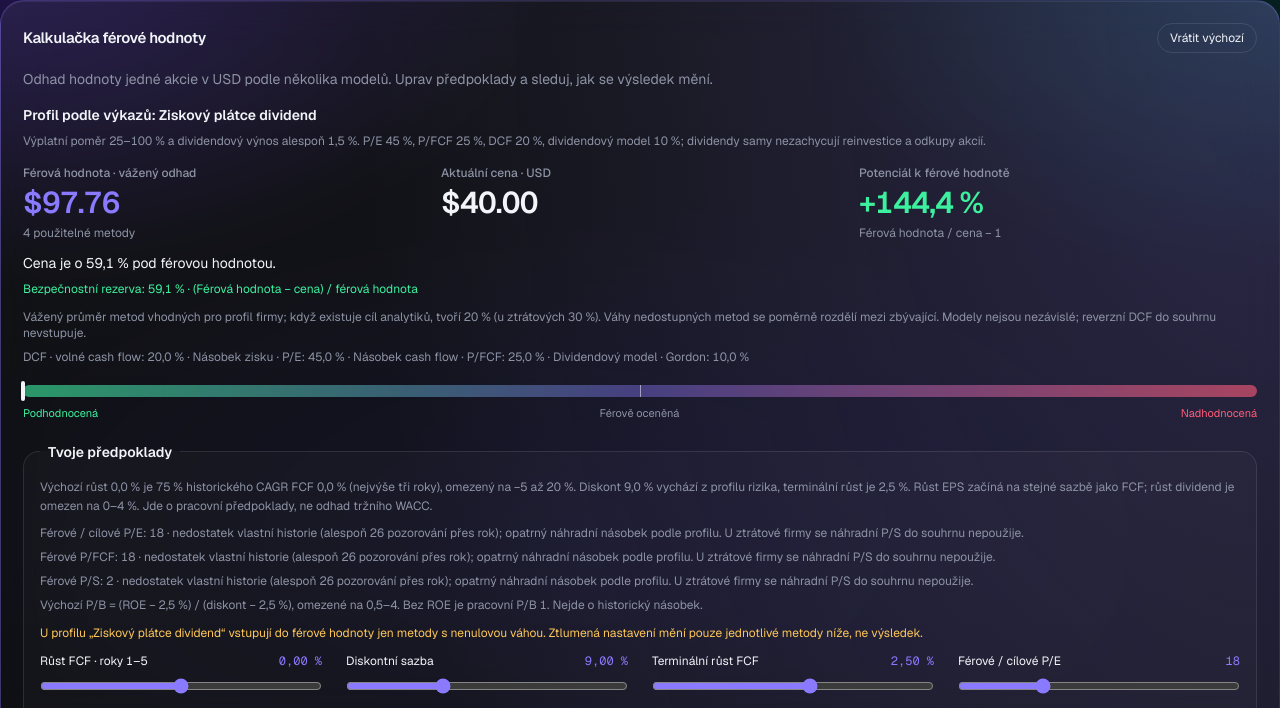
it: fair value panel › explains invalid terminal assumptions and leaves other methods available
Step 1. Set the slider labelled "Diskontní sazba" to "2" → x=365, y=686, box [346,678,628,694]
(page scrolled)
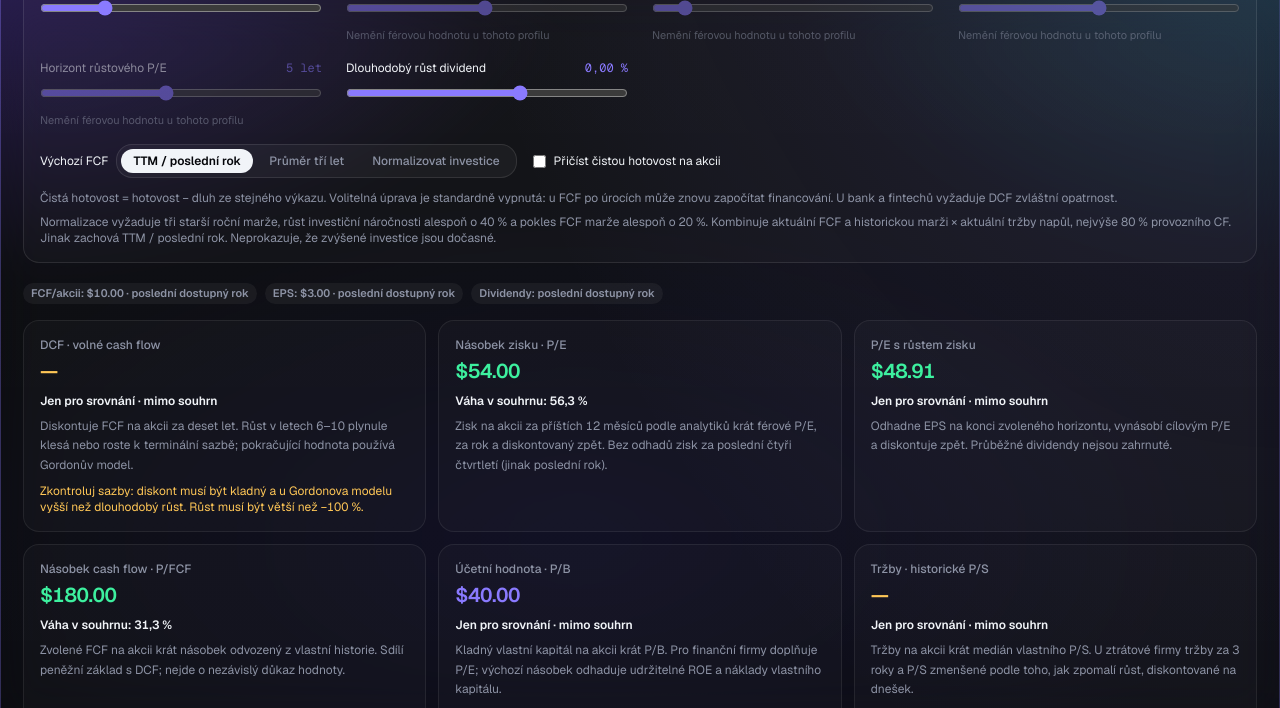
Now the text "Zkontroluj sazby:" is shown, box [40,483,392,515]
